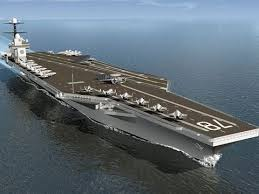tau_muctieu: (7, 27, 252, 171)
